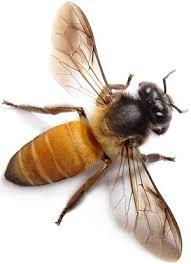Apis-mellifera-scutellata: (11, 2, 188, 262)
